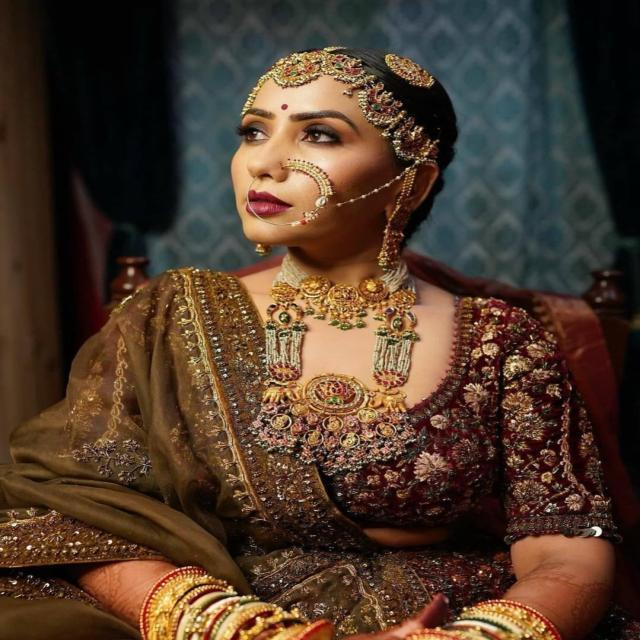Earring: (374, 183, 419, 269), (245, 239, 278, 259)
